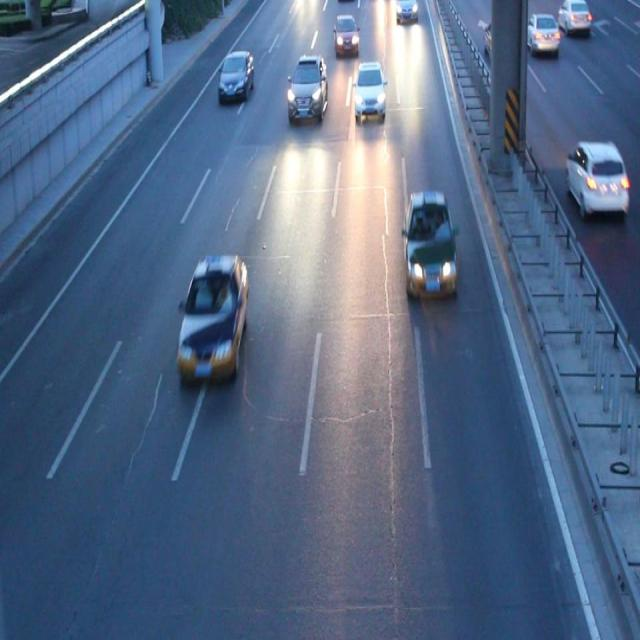car: (179, 253, 249, 376), (399, 188, 459, 301), (286, 54, 328, 124), (352, 60, 388, 120), (218, 49, 252, 103), (332, 13, 359, 58), (396, 1, 417, 24)
